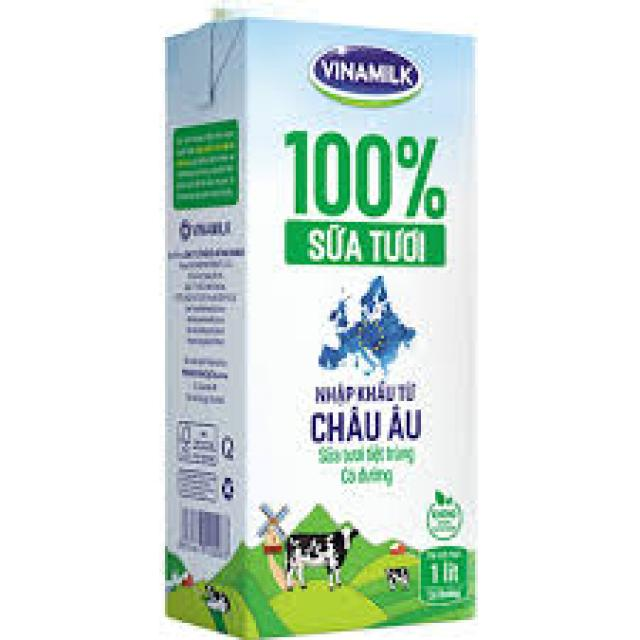non_white_jug: (145, 9, 484, 632)
